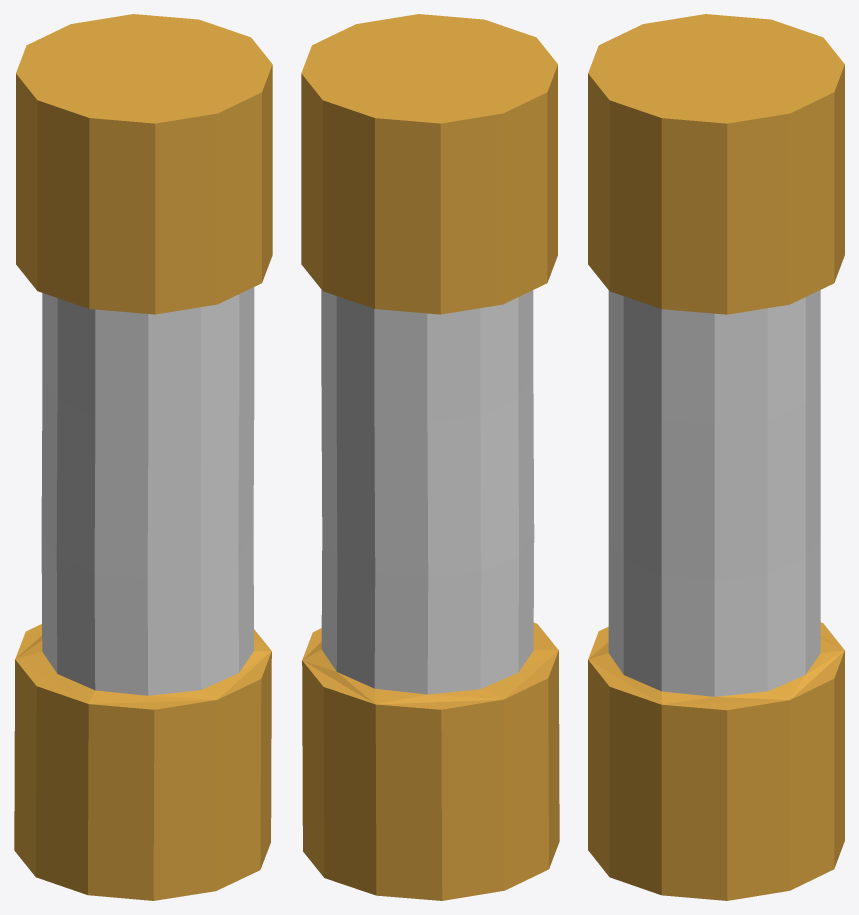
Rendered from Fuse.fbx.
3 views of the same model, side by side, from view 1: azimuth 30°, elevation 25°; view 2: azimuth 150°, elevation 25°; view 3: azimuth 270°, elevation 25° (orthographic).
Parts seen in each view (by area): view 1: fuse; view 2: fuse; view 3: fuse.
Boxes of the visible parts, <box> form: fuse: <box>14,14,272,900</box>; fuse: <box>301,14,559,900</box>; fuse: <box>588,14,844,900</box>.
Size of the model in its own units: 7.79 by 7.92 by 26.03.
